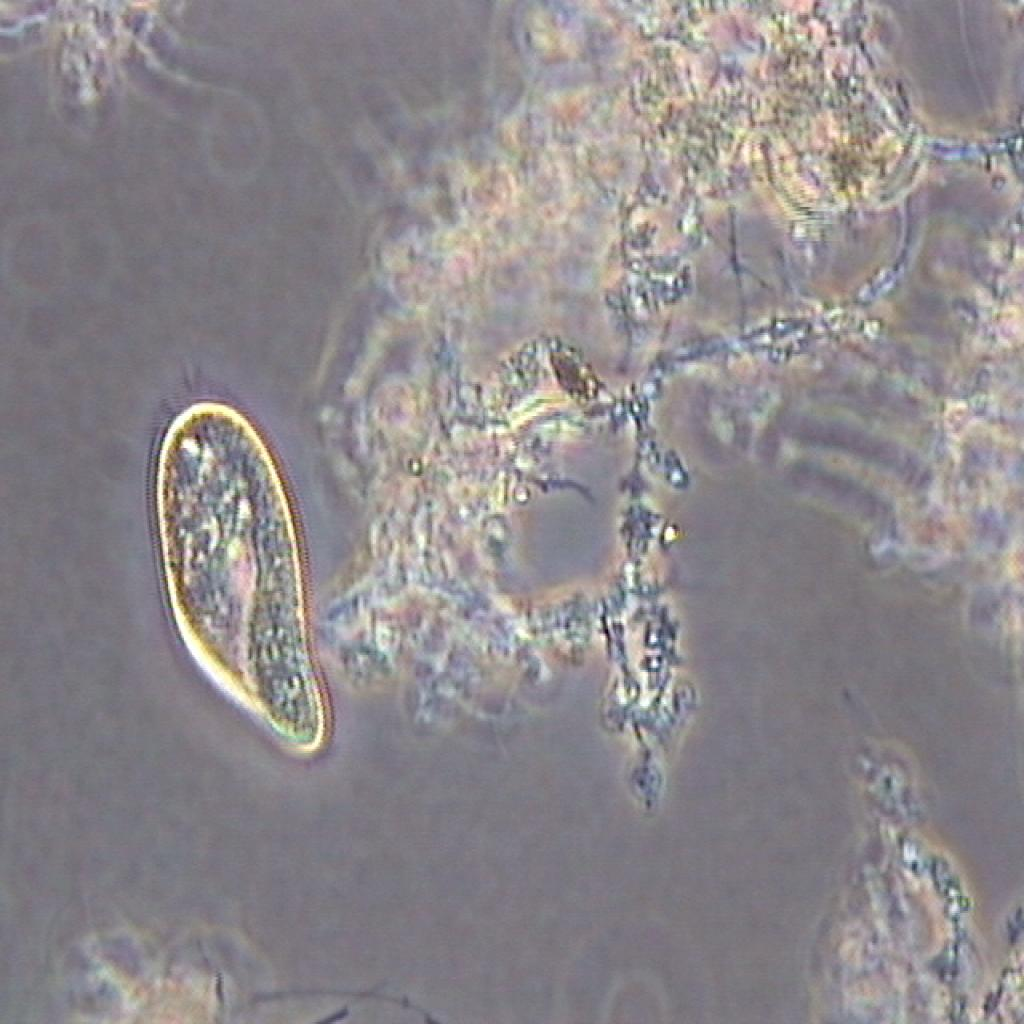Paramecium: (112, 364, 373, 771)
